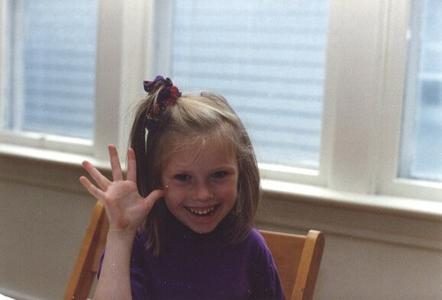person: (80, 76, 286, 300)
